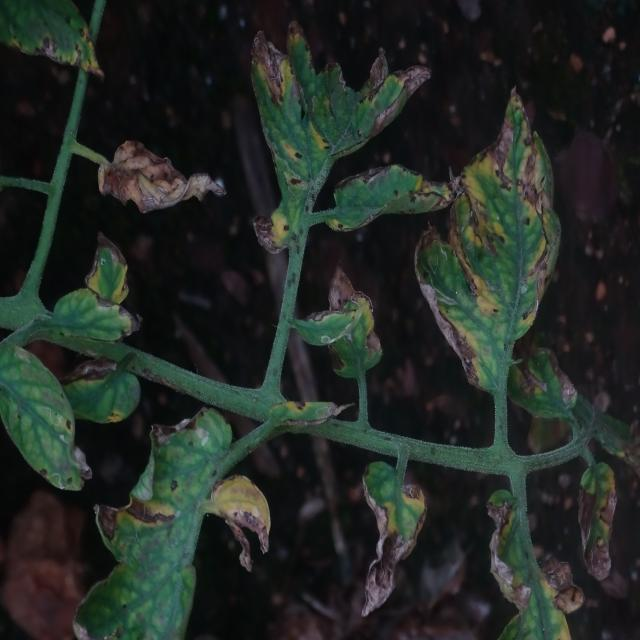Tomato mosaic virus leaf: (413, 84, 564, 392), (89, 404, 274, 639), (238, 19, 328, 254), (482, 489, 587, 640), (0, 341, 93, 496), (328, 49, 437, 160), (356, 457, 428, 620), (96, 138, 230, 218), (328, 161, 463, 236), (1, 0, 107, 80), (572, 459, 620, 584)
